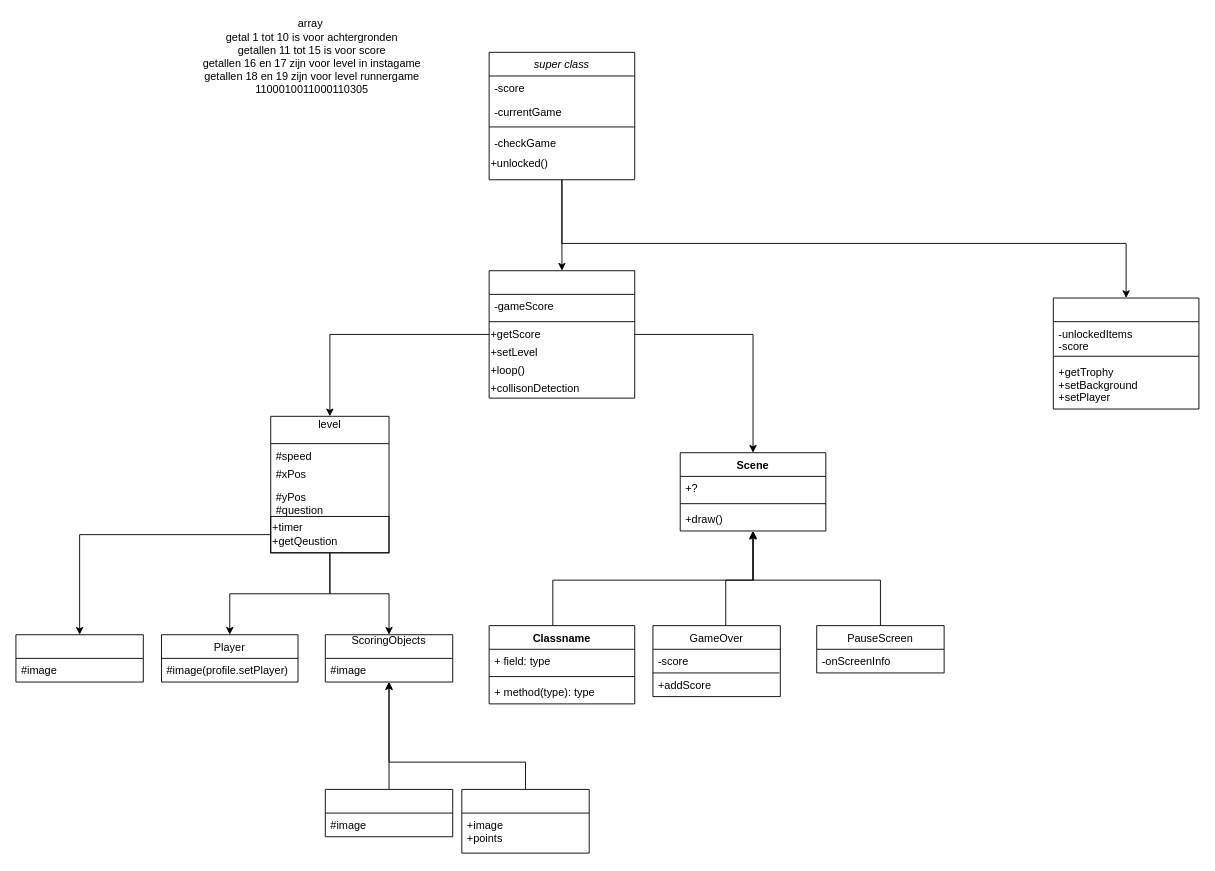
This 1215x871 diagram has some shape labels left out. Here are the shapes that lost their labels. From the top down, the box of each, then its label:
(488, 270, 635, 398): RunnerGame
(1052, 297, 1199, 409): Profile
(15, 634, 143, 682): Questions
(324, 789, 453, 837): BadGuys
(461, 789, 589, 853): Prize
